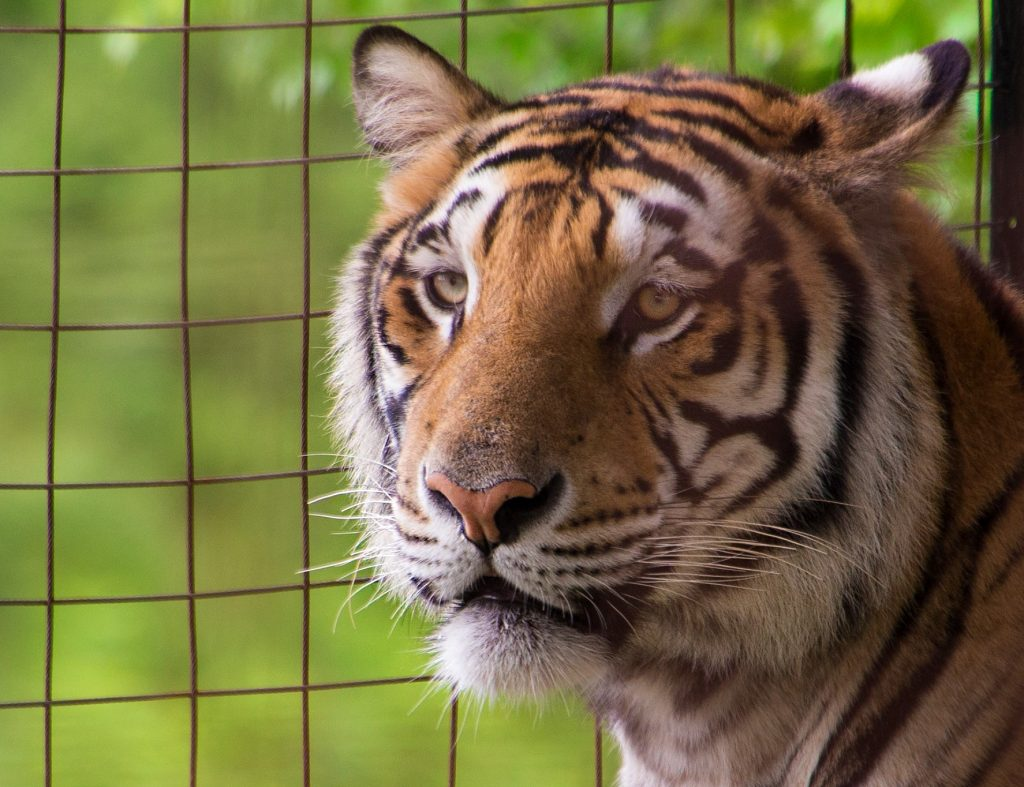Tiger: (310, 25, 1024, 742)
